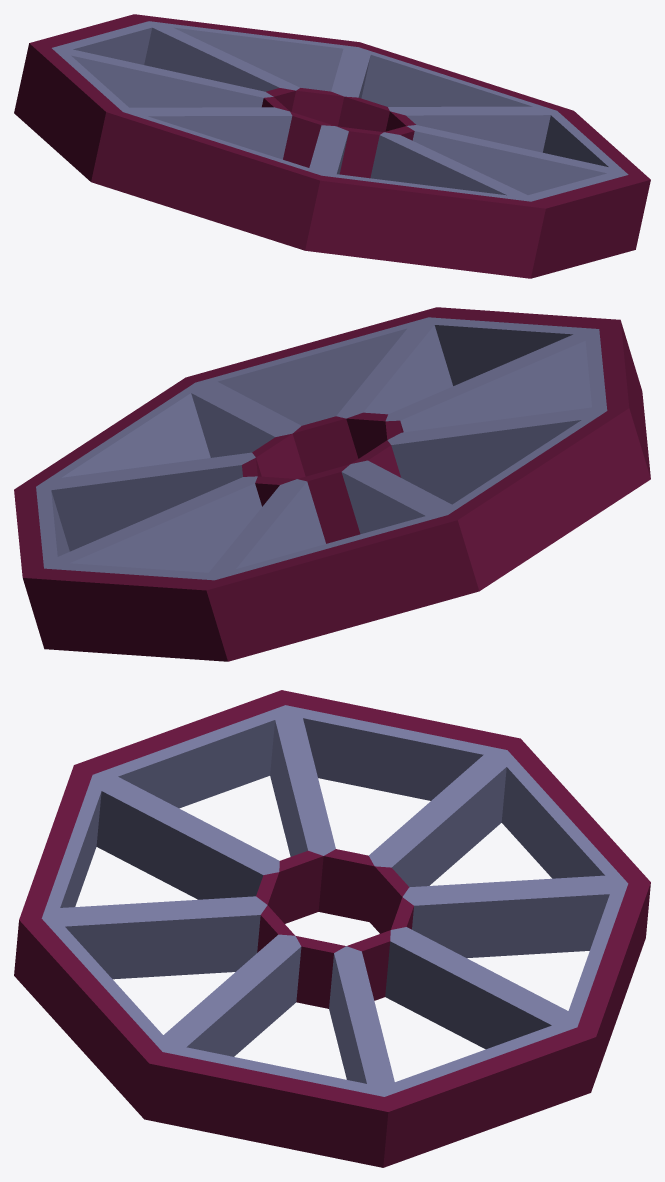
File: Aspa1.fbx
The picture shows the model from 3 angles, top to bottom: view 1: azimuth 30°, elevation 25°; view 2: azimuth 150°, elevation 25°; view 3: azimuth 270°, elevation 25°; orthographic projection. The views are drawn at different scales.
Visible parts, largest first — view 1: Aspas2; view 2: Aspas2; view 3: Aspas2.
Boxes of the visible parts, x1=… form: Aspas2: x1=14, y1=14, x2=650, y2=278; Aspas2: x1=14, y1=307, x2=650, y2=661; Aspas2: x1=14, y1=690, x2=650, y2=1167.
Size of the model in its own units: 1923 by 780 by 1954.
